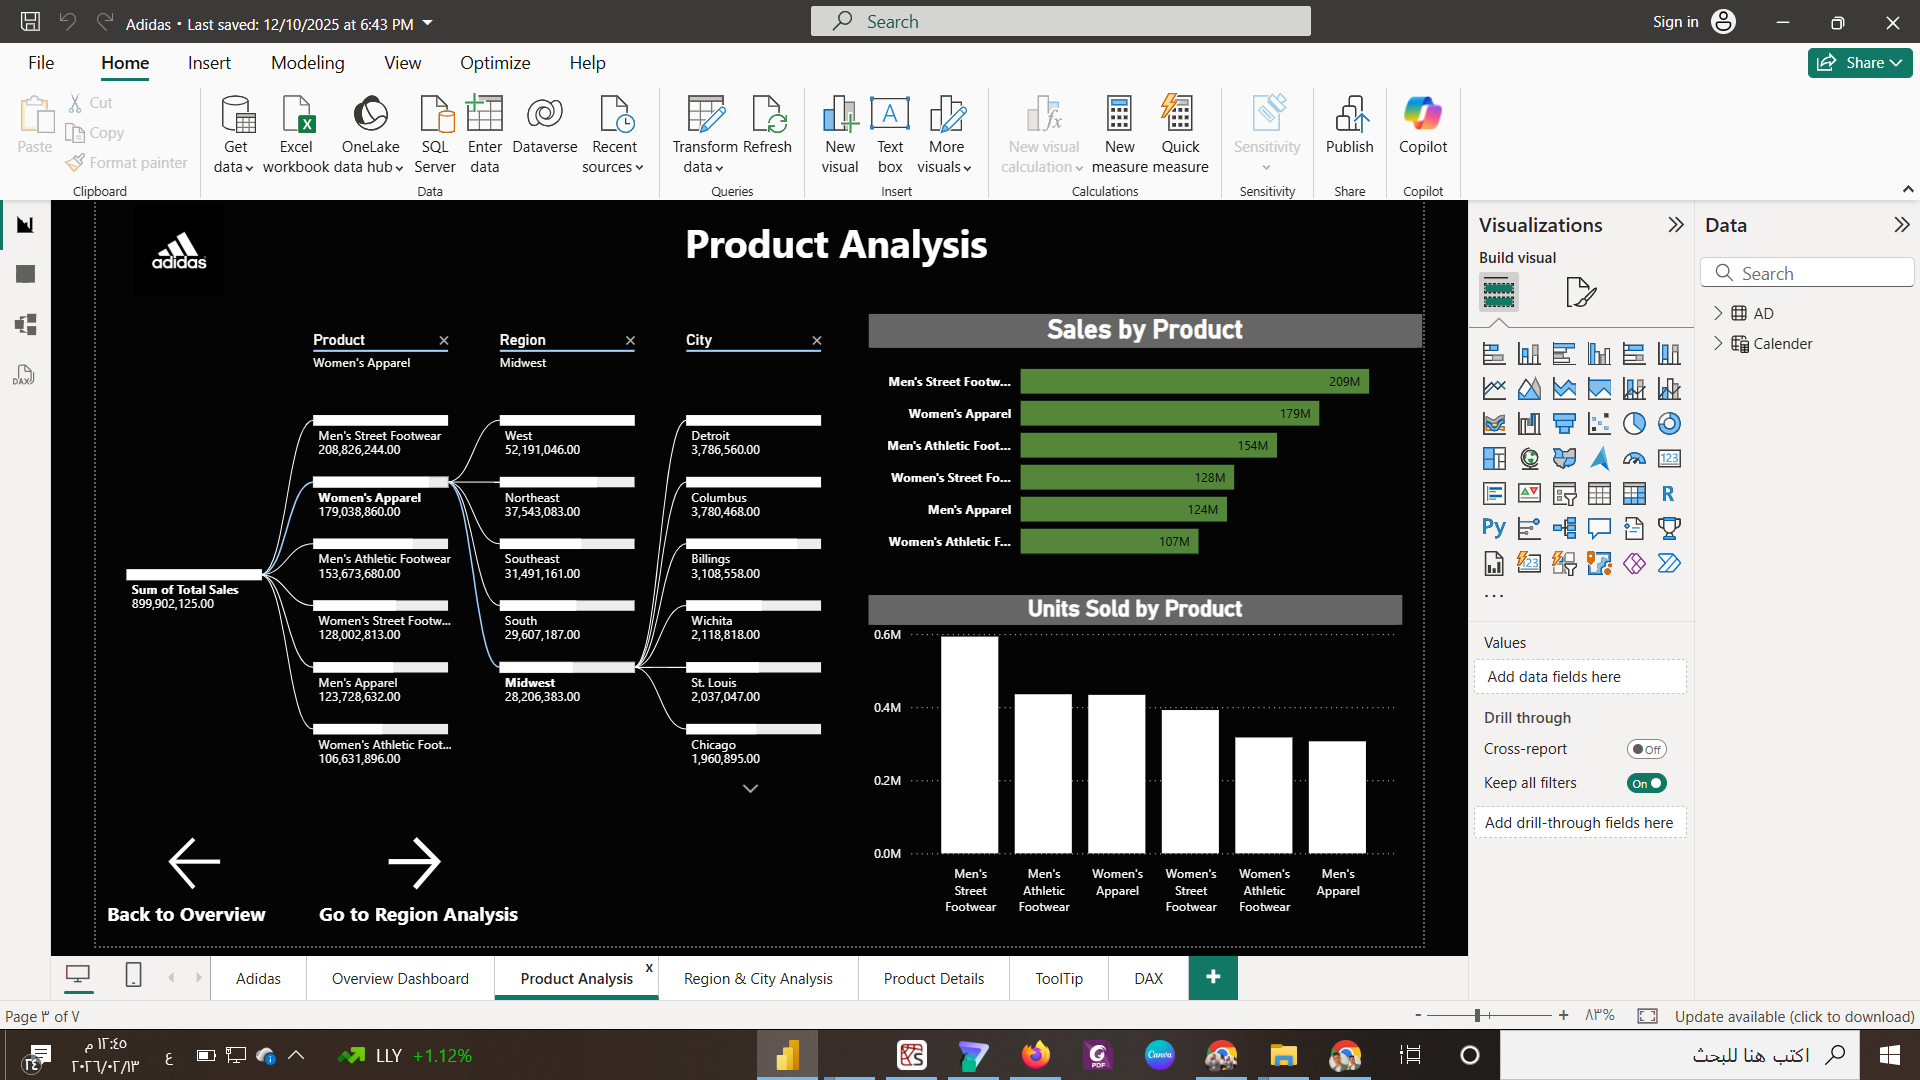

Layout of this report page (visuals, bound fields, positions):
{"tool":"powerbi","page":{"name":"Product Analysis","canvas":[1280,720],"ordinal":2},"visuals":[{"type":"textbox","box":[415.1,11.1,588.5,85.9],"z":0},{"type":"image","box":[0,0,160.7,97],"z":1000},{"type":"decompositionTreeVisual","fields":{"Analyze":["Sum(AD.Total Sales)"],"ExplainBy":["AD.Product","AD.Region","AD.City"]},"box":[0,109.8,746,482],"z":2000},{"type":"barChart","title":"Sales by Product","fields":{"Category":["AD.Product"],"Y":["Sum(AD.Total Sales)"]},"box":[746,109.8,534.4,249.7],"z":3000},{"type":"columnChart","title":"Units Sold by Product","fields":{"Y":["Sum(AD.Units Sold)"],"Category":["AD.Product"]},"box":[746,381.7,515.4,316.5],"z":4000},{"type":"actionButton","box":[275.2,609.2,76.3,62],"z":5000},{"type":"actionButton","box":[65.2,609.2,71.6,62],"z":6000},{"type":"textbox","box":[178.1,671.2,270.4,49.3],"z":7000},{"type":"textbox","box":[0,670.7,179.7,49.3],"z":8000}]}

Visuals, with their boxes on the page's 1280x720 design canvas (x1, y1, x2, y2). These are canvas units, not pixel positions in the 1920x1080 screenshot, which may show the page scaled, cropped or inside an application window:
textbox: Rect(415, 11, 1004, 97)
image: Rect(0, 0, 161, 97)
decompositionTreeVisual - Sum(AD.Total Sales) x AD.Product: Rect(0, 110, 746, 592)
"Sales by Product" barChart: Rect(746, 110, 1280, 360)
"Units Sold by Product" columnChart: Rect(746, 382, 1261, 698)
actionButton: Rect(275, 609, 352, 671)
actionButton: Rect(65, 609, 137, 671)
textbox: Rect(178, 671, 448, 720)
textbox: Rect(0, 671, 180, 720)
